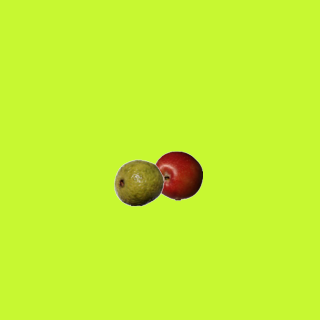Apple Braeburn: (152, 150, 202, 200)
Guava: (113, 157, 163, 207)
